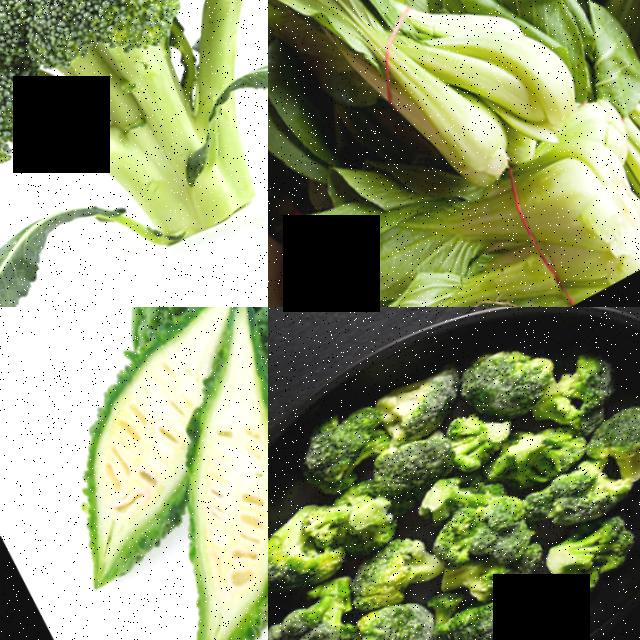0: (335, 420, 477, 533), (527, 330, 640, 433), (421, 486, 534, 587), (361, 355, 470, 448), (396, 577, 552, 640), (461, 329, 566, 422), (446, 487, 543, 578), (286, 403, 384, 492), (268, 518, 343, 629), (346, 531, 439, 612), (533, 453, 619, 533), (268, 586, 366, 640), (346, 598, 456, 640), (593, 391, 640, 485)
bitter gourd: (19, 368, 210, 569), (170, 415, 268, 640)
bok choy: (308, 108, 640, 307), (318, 0, 551, 191)
broccoli: (0, 0, 268, 307)
